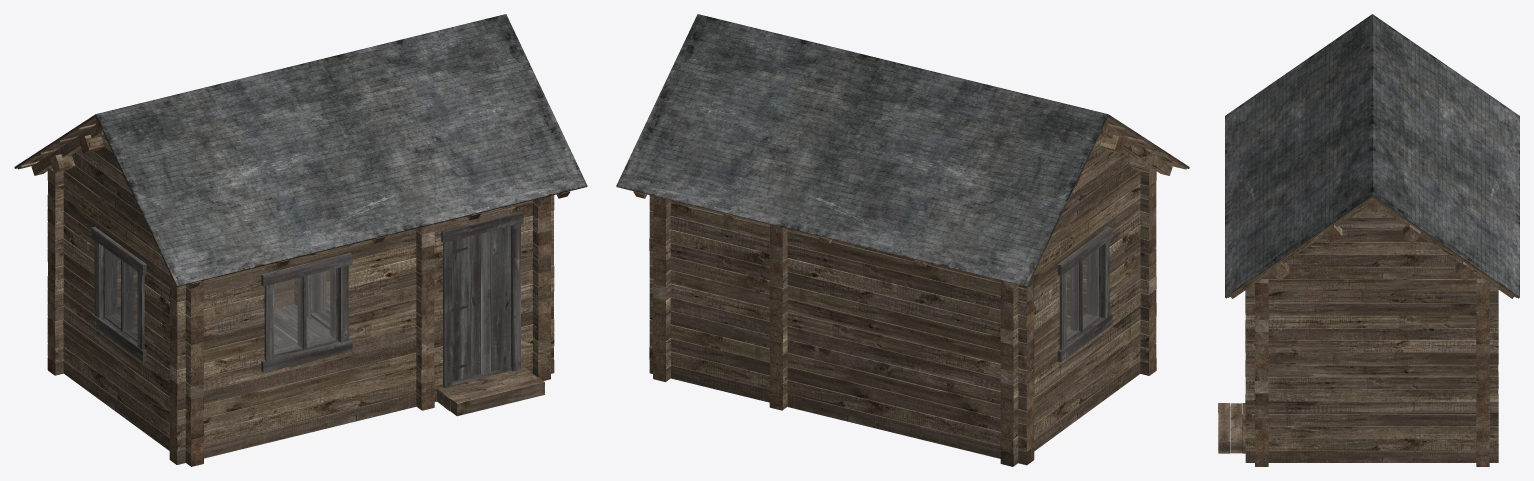
The model's file is logcabin.glb.
The picture shows the model from 3 angles, left to right: view 1: azimuth 30°, elevation 25°; view 2: azimuth 150°, elevation 25°; view 3: azimuth 270°, elevation 25°; orthographic projection. The views are drawn at different scales.
Parts seen in each view (by area): view 1: Base, Door; view 2: Base; view 3: Base.
Part boxes in pixels (box(x1,y1,x2,y2)): Base: box(14, 14, 587, 466); Door: box(452, 226, 510, 381); Base: box(616, 14, 1189, 466); Base: box(1218, 14, 1519, 466).
Size of the model in its own units: 514 by 368 by 361.
Materials: 7 (7 with a texture image).
